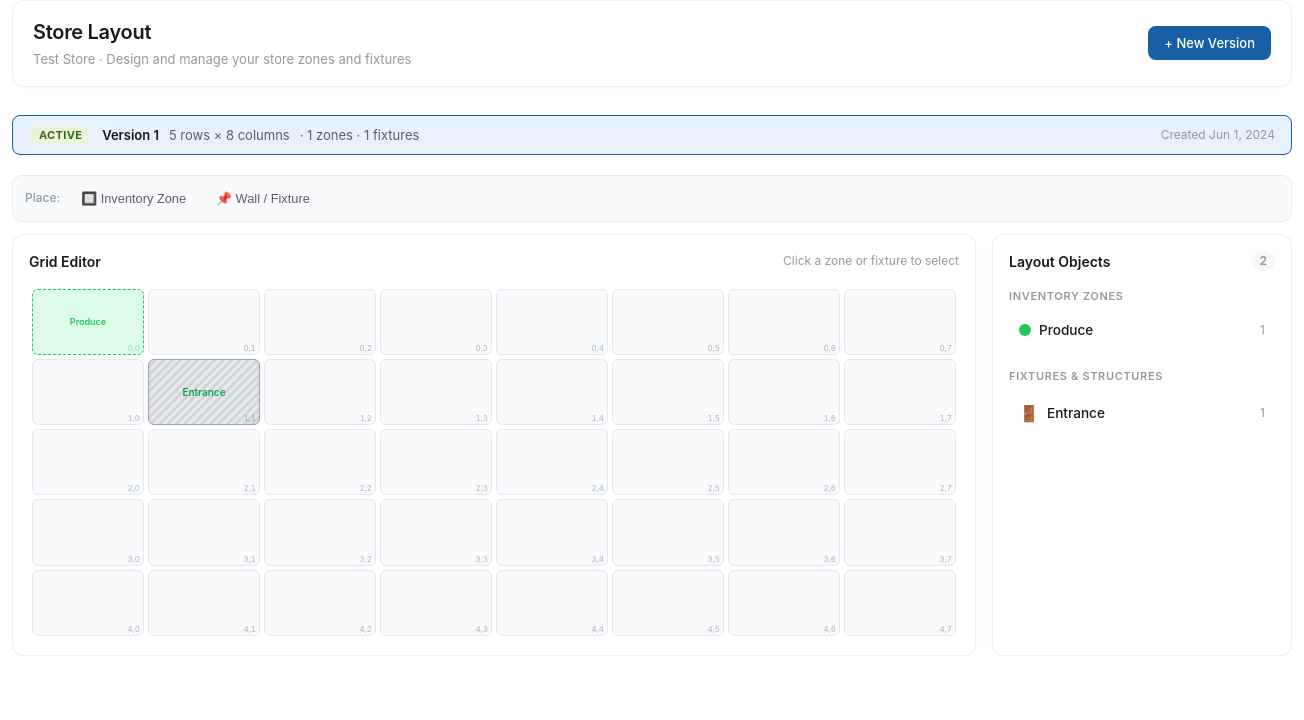
Test: StoreLayoutPage › toggles new version form when clicking + New Version
Click the button "+ New Version" at (1210, 43), box [1148, 26, 1271, 60]
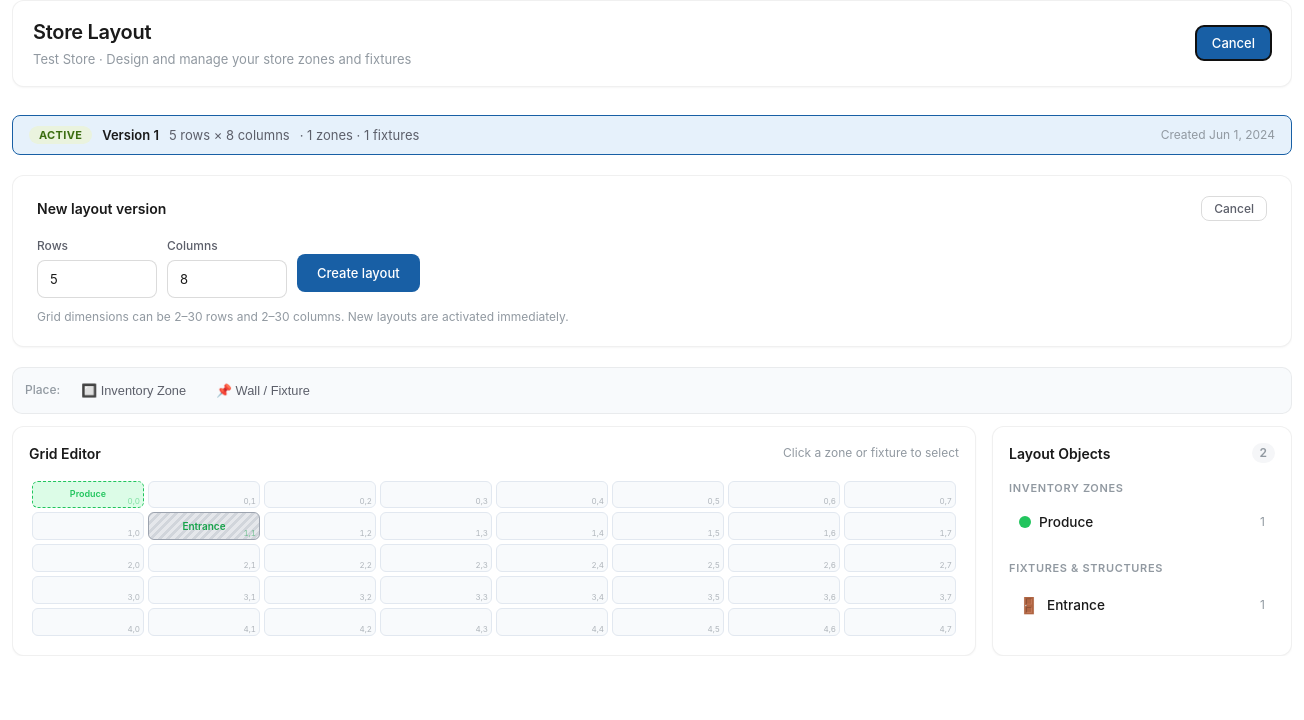
Now the text "New layout version" is shown, box [37, 198, 166, 218]
